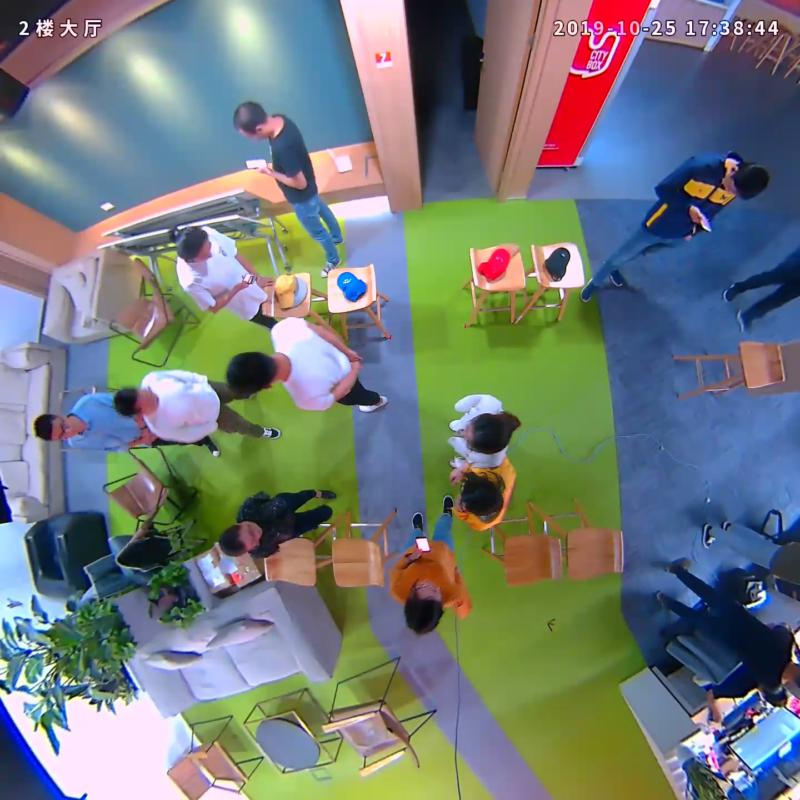head: (225, 349, 277, 393), (405, 578, 445, 635), (721, 161, 771, 202), (460, 473, 503, 515), (464, 413, 509, 453), (218, 519, 262, 557), (172, 226, 212, 265), (233, 101, 270, 141), (115, 386, 160, 417), (34, 412, 77, 442)
